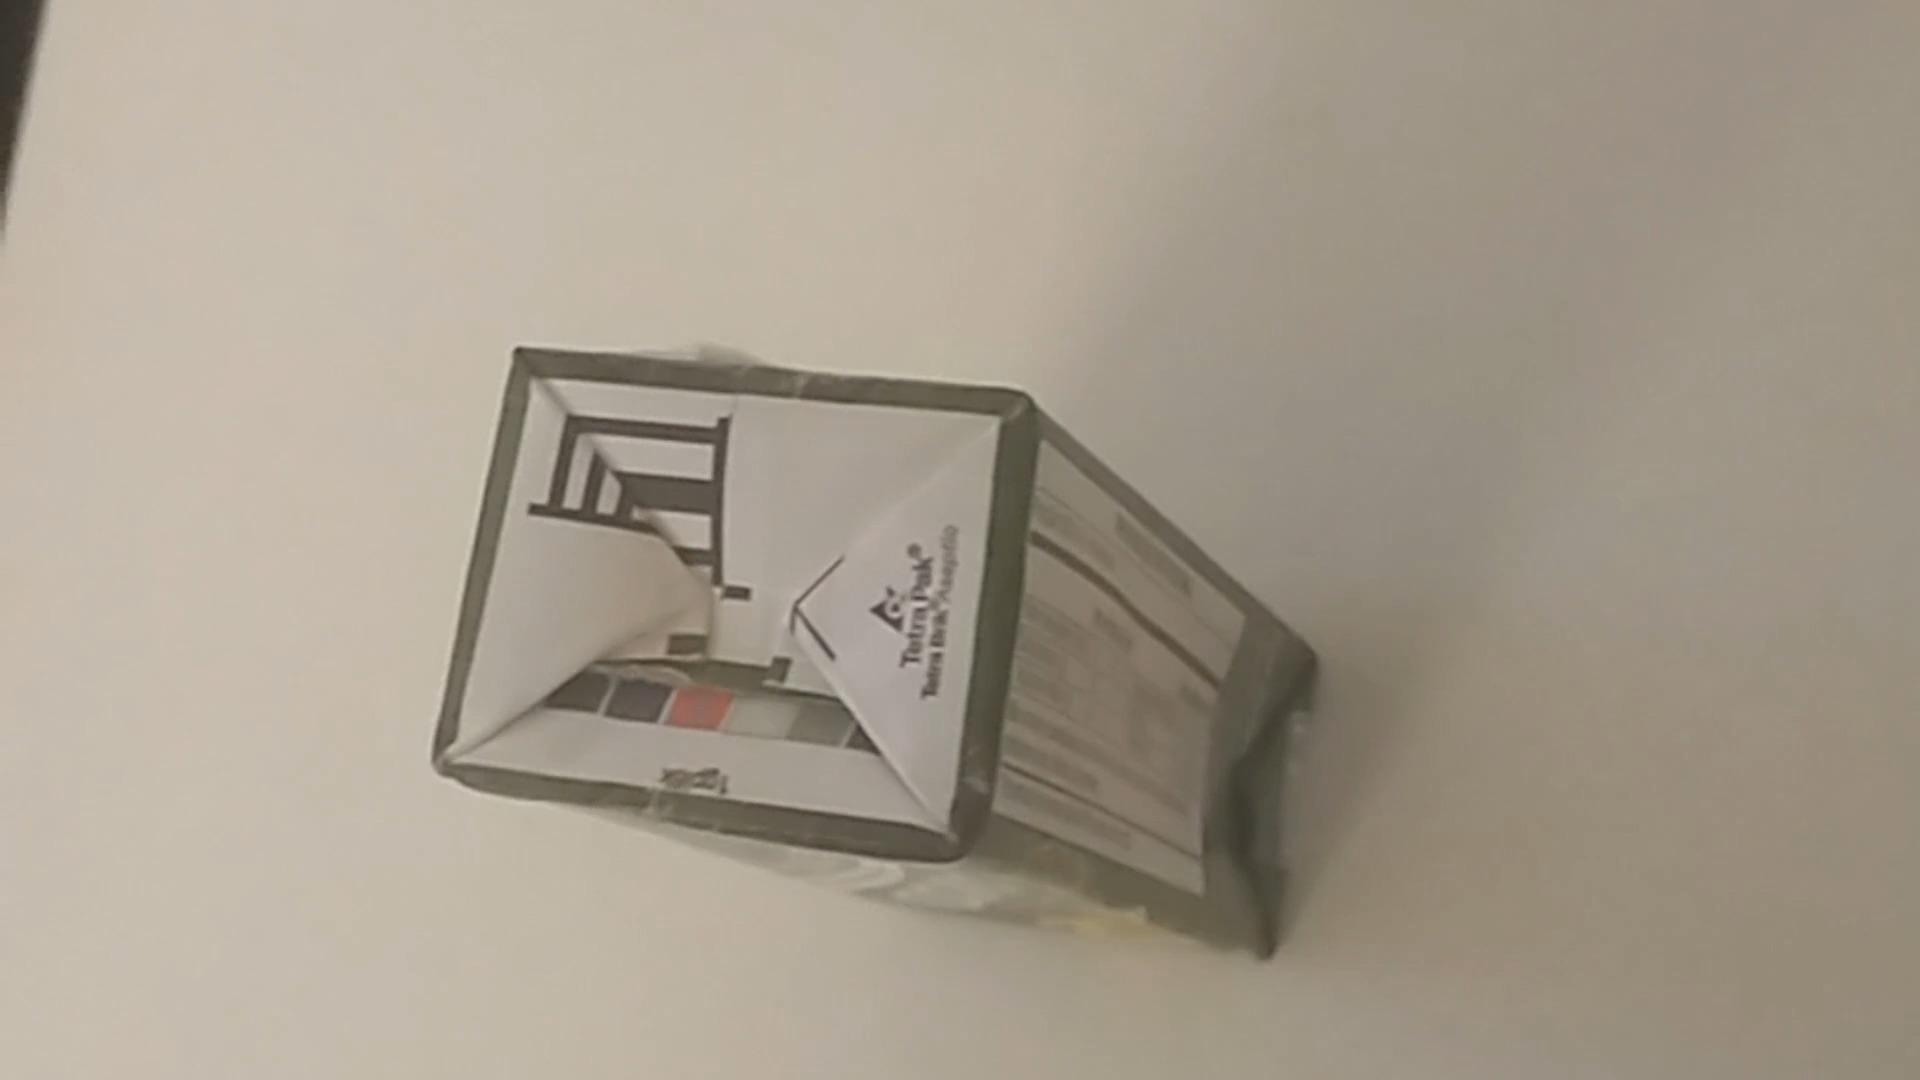coco: (438, 338, 1328, 975)
